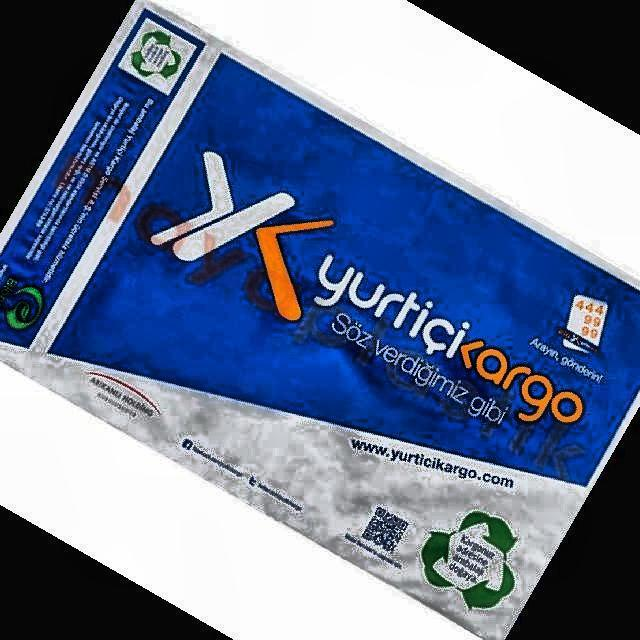plastic: (0, 2, 640, 640)
